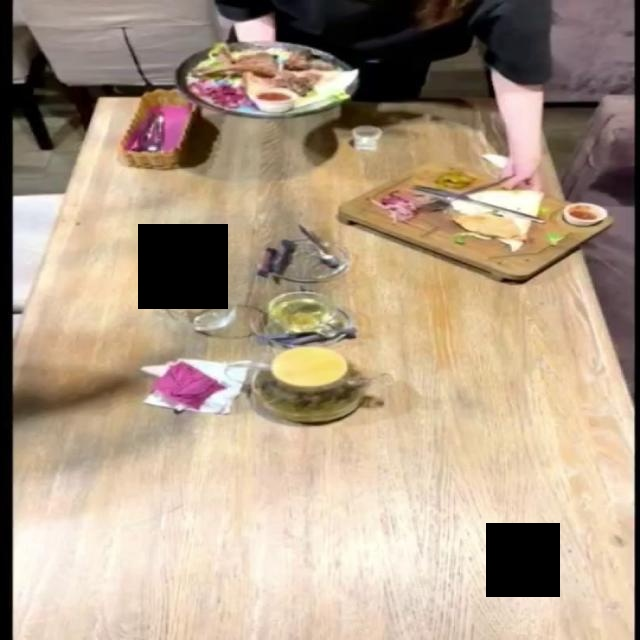meat: (330, 162, 620, 294), (170, 43, 371, 126)
tea: (212, 342, 359, 418)
